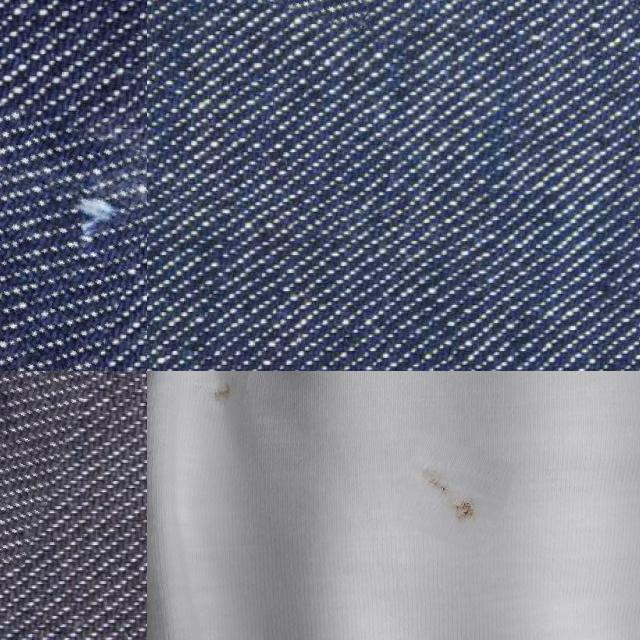Hole: (394, 438, 511, 550), (181, 371, 265, 429), (254, 621, 336, 640)
Thread_other: (0, 105, 147, 371), (0, 371, 99, 553)
